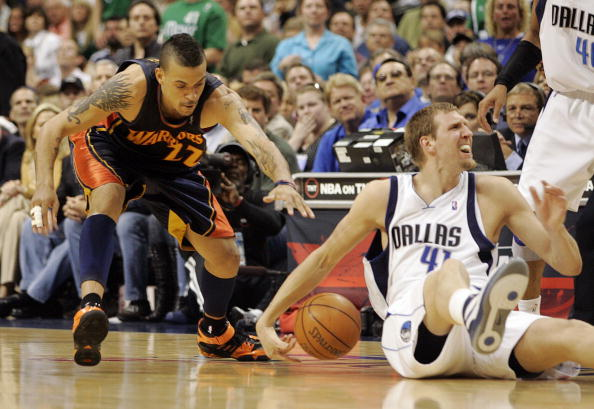10+: (2, 1, 593, 372)
down: (246, 91, 591, 381)
